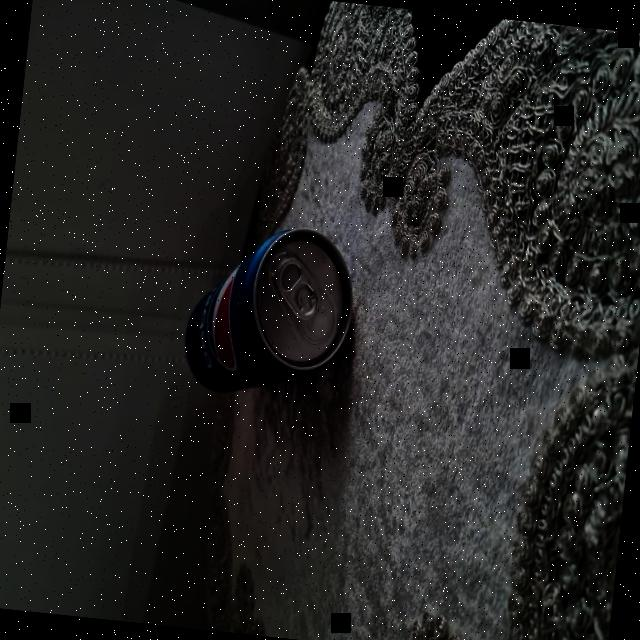can: (177, 196, 360, 410)
